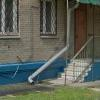stairs: (58, 54, 91, 84)
